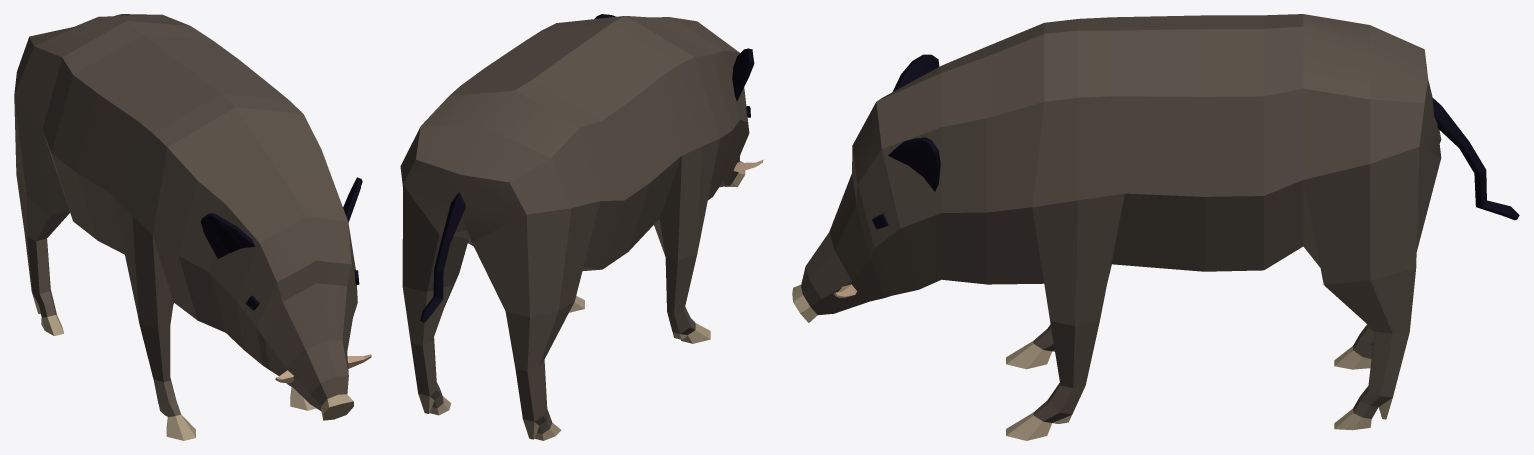
File: boar.dae
3 renders of one model, left to right at view 1: azimuth 30°, elevation 25°; view 2: azimuth 150°, elevation 25°; view 3: azimuth 270°, elevation 25°, orthographic. The views are drawn at different scales.
Visible parts, largest first — view 1: Geo_Boar; view 2: Geo_Boar; view 3: Geo_Boar.
Part boxes in pixels (x1,y1,x2,y2): Geo_Boar: (14,14,371,440); Geo_Boar: (400,14,763,440); Geo_Boar: (792,14,1519,440).
Size of the model in its own units: 0.4659 by 1.34 by 0.7535.
1 material, 1 textured.
